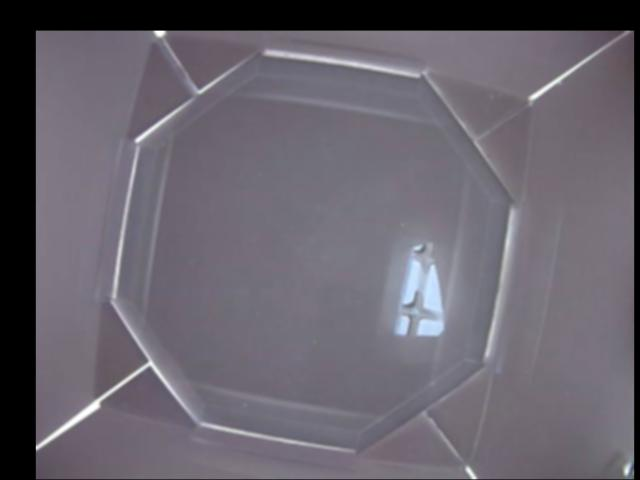China: (393, 244, 447, 335)
